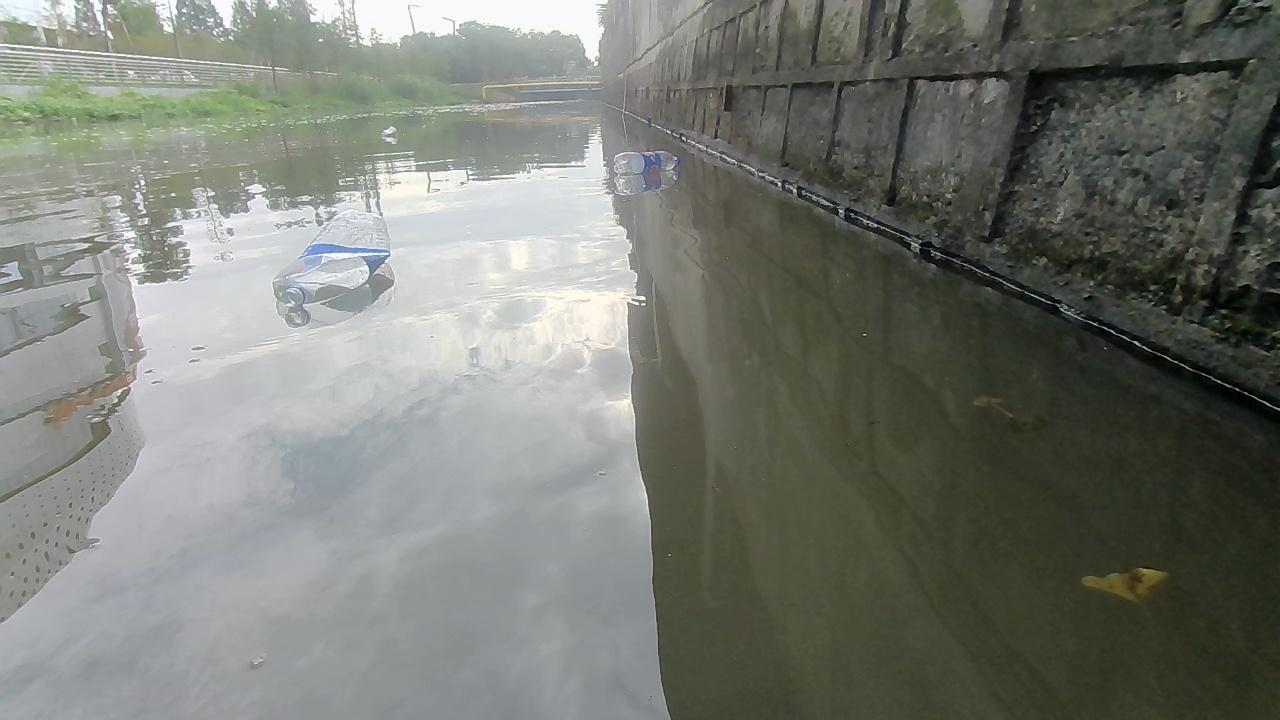bottle: (270, 205, 390, 314), (612, 147, 684, 177), (379, 123, 398, 138)
